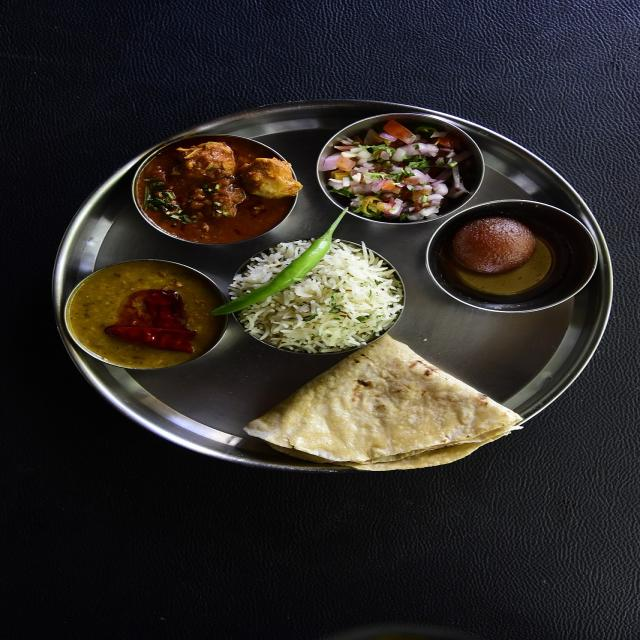Chapati: (244, 336, 520, 472)
Chicken Curry: (133, 134, 301, 244)
Dal: (69, 263, 211, 367)
Gulab Jamun: (430, 203, 598, 310)
Salad: (322, 113, 480, 223)
White Rice: (229, 240, 401, 352)
